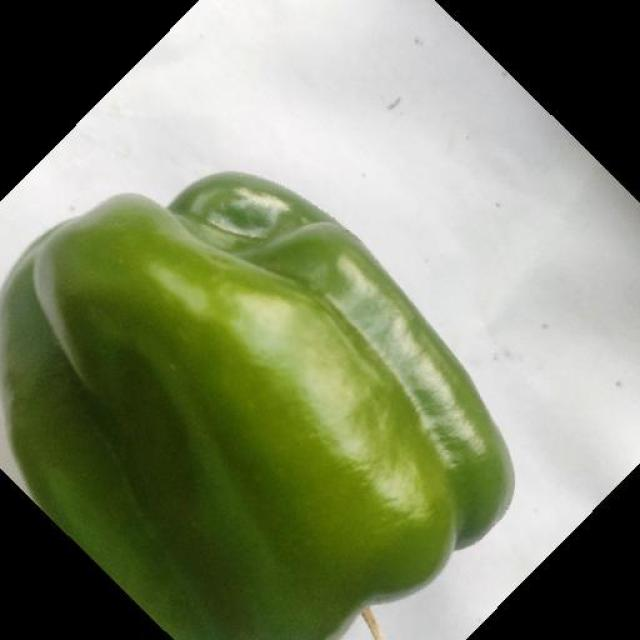Fresh_Capsicum: (17, 188, 518, 623)
